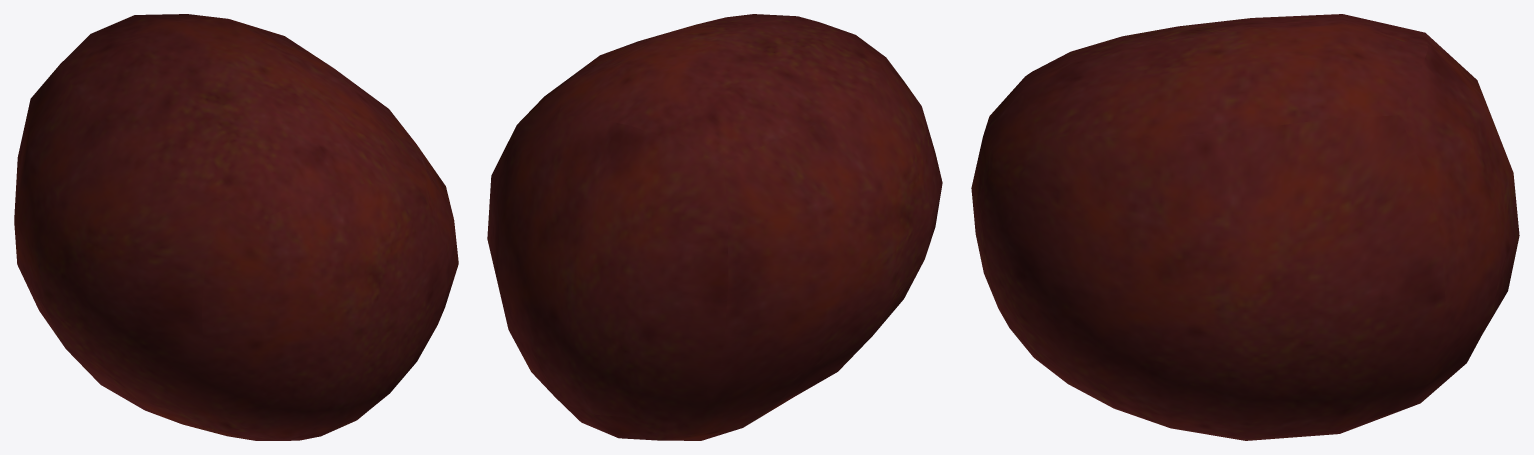
The model's file is Potato_29.obj.
3 views of the same model, side by side, from view 1: azimuth 30°, elevation 25°; view 2: azimuth 150°, elevation 25°; view 3: azimuth 270°, elevation 25° (orthographic). The views are drawn at different scales.
Visible parts, largest first — view 1: potato_c9; view 2: potato_c9; view 3: potato_c9.
Boxes of the visible parts, x1=… form: potato_c9: x1=14, y1=14, x2=458, y2=440; potato_c9: x1=487, y1=14, x2=942, y2=440; potato_c9: x1=971, y1=14, x2=1519, y2=440.
Size of the model in its own units: 0.111 by 0.1038 by 0.1319.
